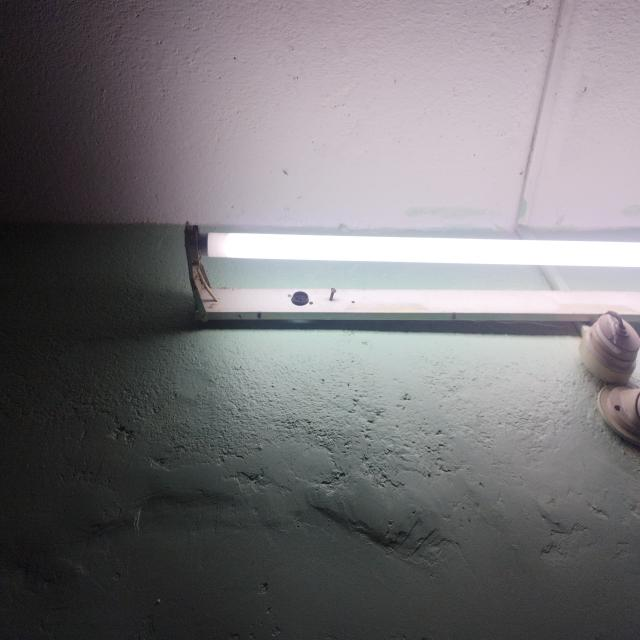tubelight_on: (183, 219, 640, 326)
